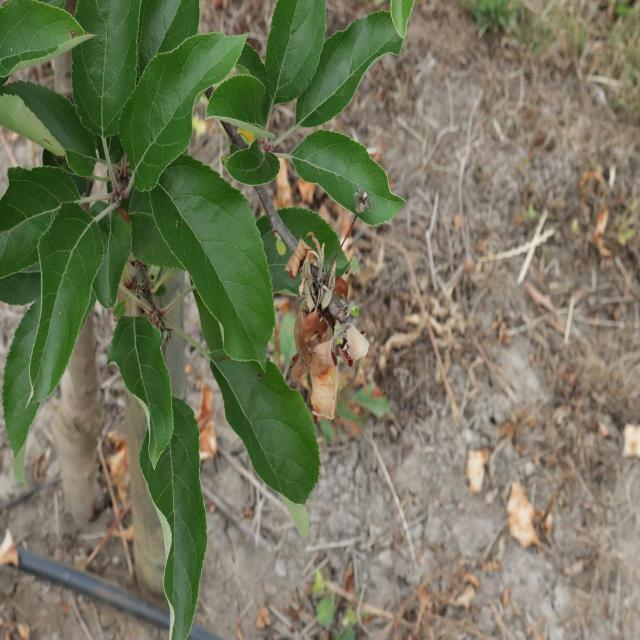-FireBlight-: (279, 243, 347, 421)
